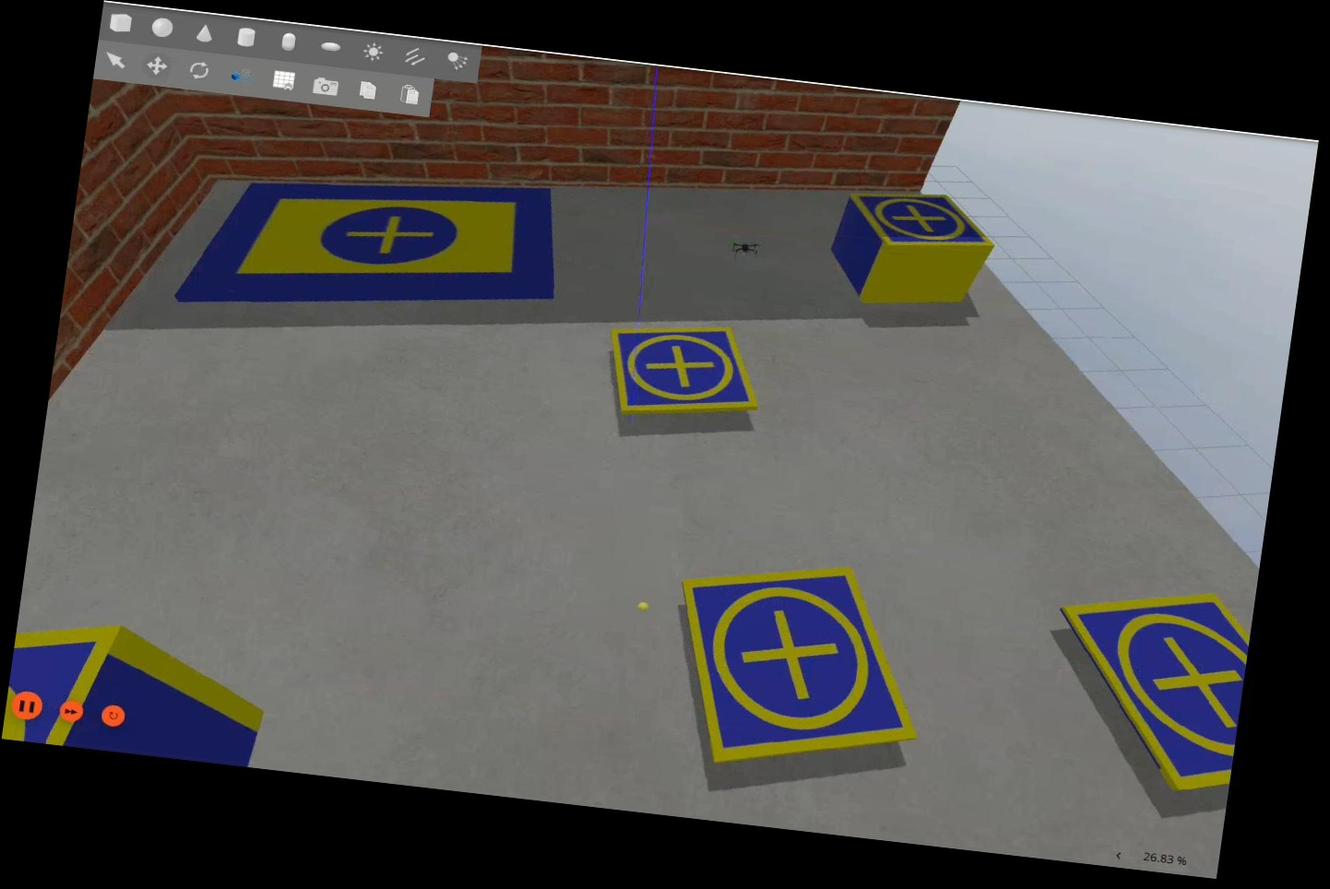large_base: (174, 148, 573, 346)
small_base: (663, 551, 942, 788), (1035, 577, 1260, 801), (0, 610, 135, 761), (600, 314, 769, 429), (843, 184, 1000, 260)
